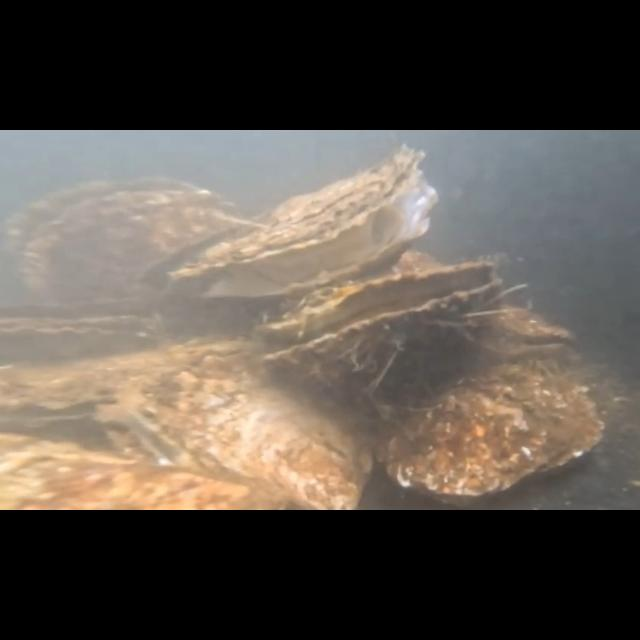Oyster-Closed: (386, 353, 610, 499), (0, 430, 304, 510)
Oyster-Open: (166, 143, 444, 310), (126, 352, 378, 511), (0, 172, 244, 316), (257, 256, 508, 388), (1, 335, 246, 435), (1, 312, 168, 364), (464, 302, 576, 362)
